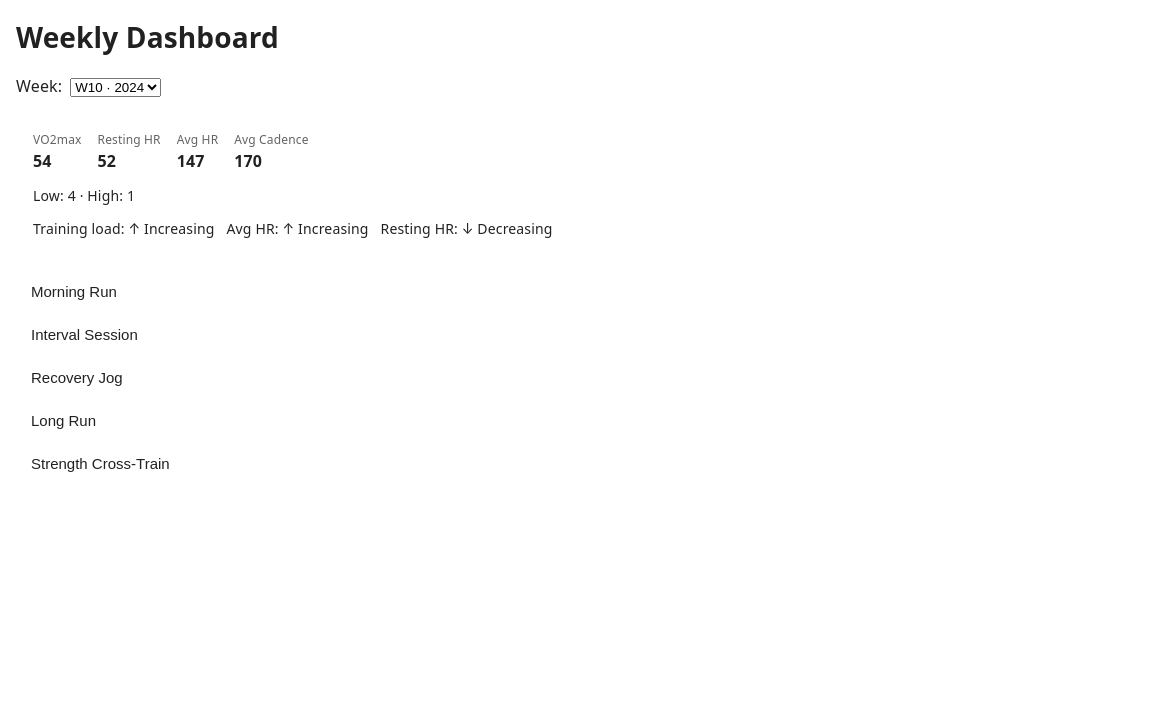
Test: WeeklyDashboard › Scenario: Activity detail displays a dash when cadence or average heart rate is absent › Strength Cross-Train shows em dash for missing fields
The image size is (1152, 720).
Select "W10 · 2024" in the dropdown with test id "week-selector" at (116, 88), box [70,78,161,97]
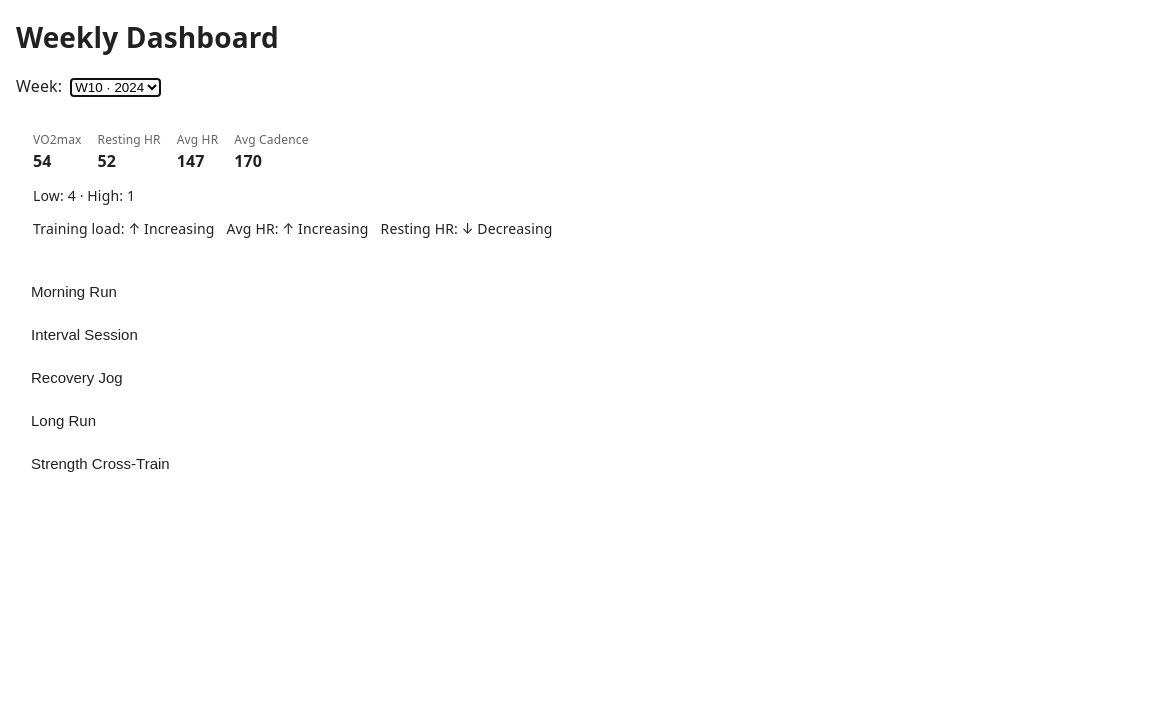
Click the button "Strength Cross-Train" at (100, 464), box [16,444,1136,483]
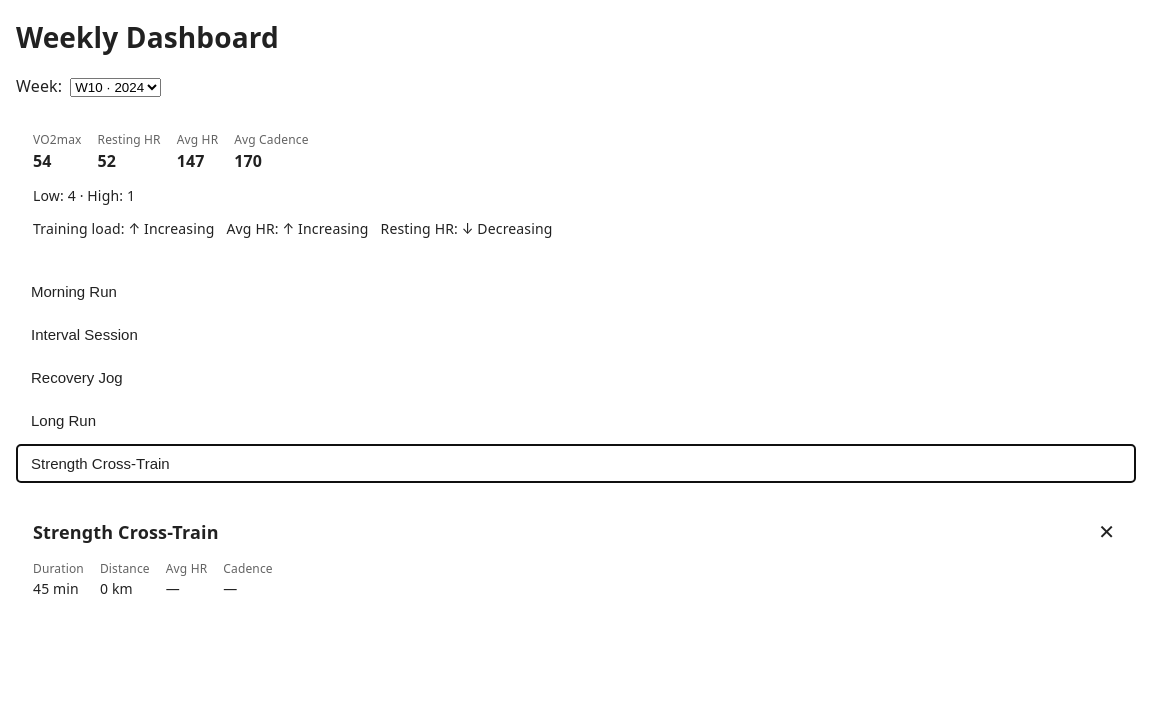
Expected: the text with test id "activity-avg-hr" reads "—", [166,579,180,598]
Expected: the text with test id "activity-cadence" reads "—", [223,579,238,598]
